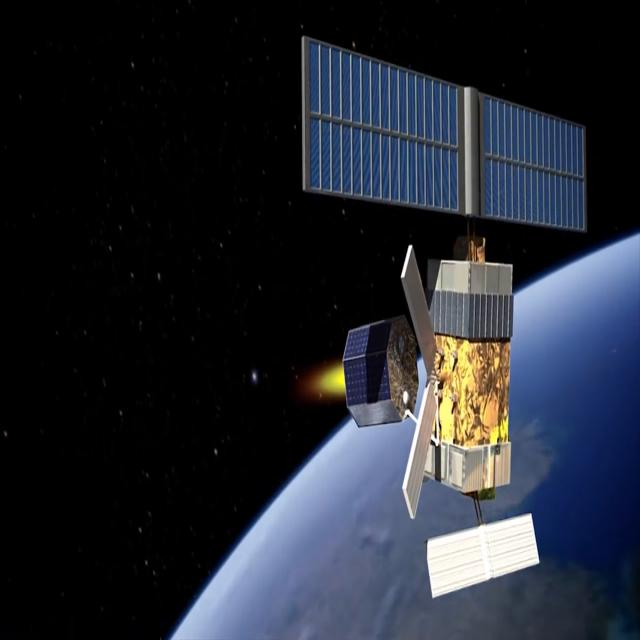satellite: (258, 0, 609, 599)
